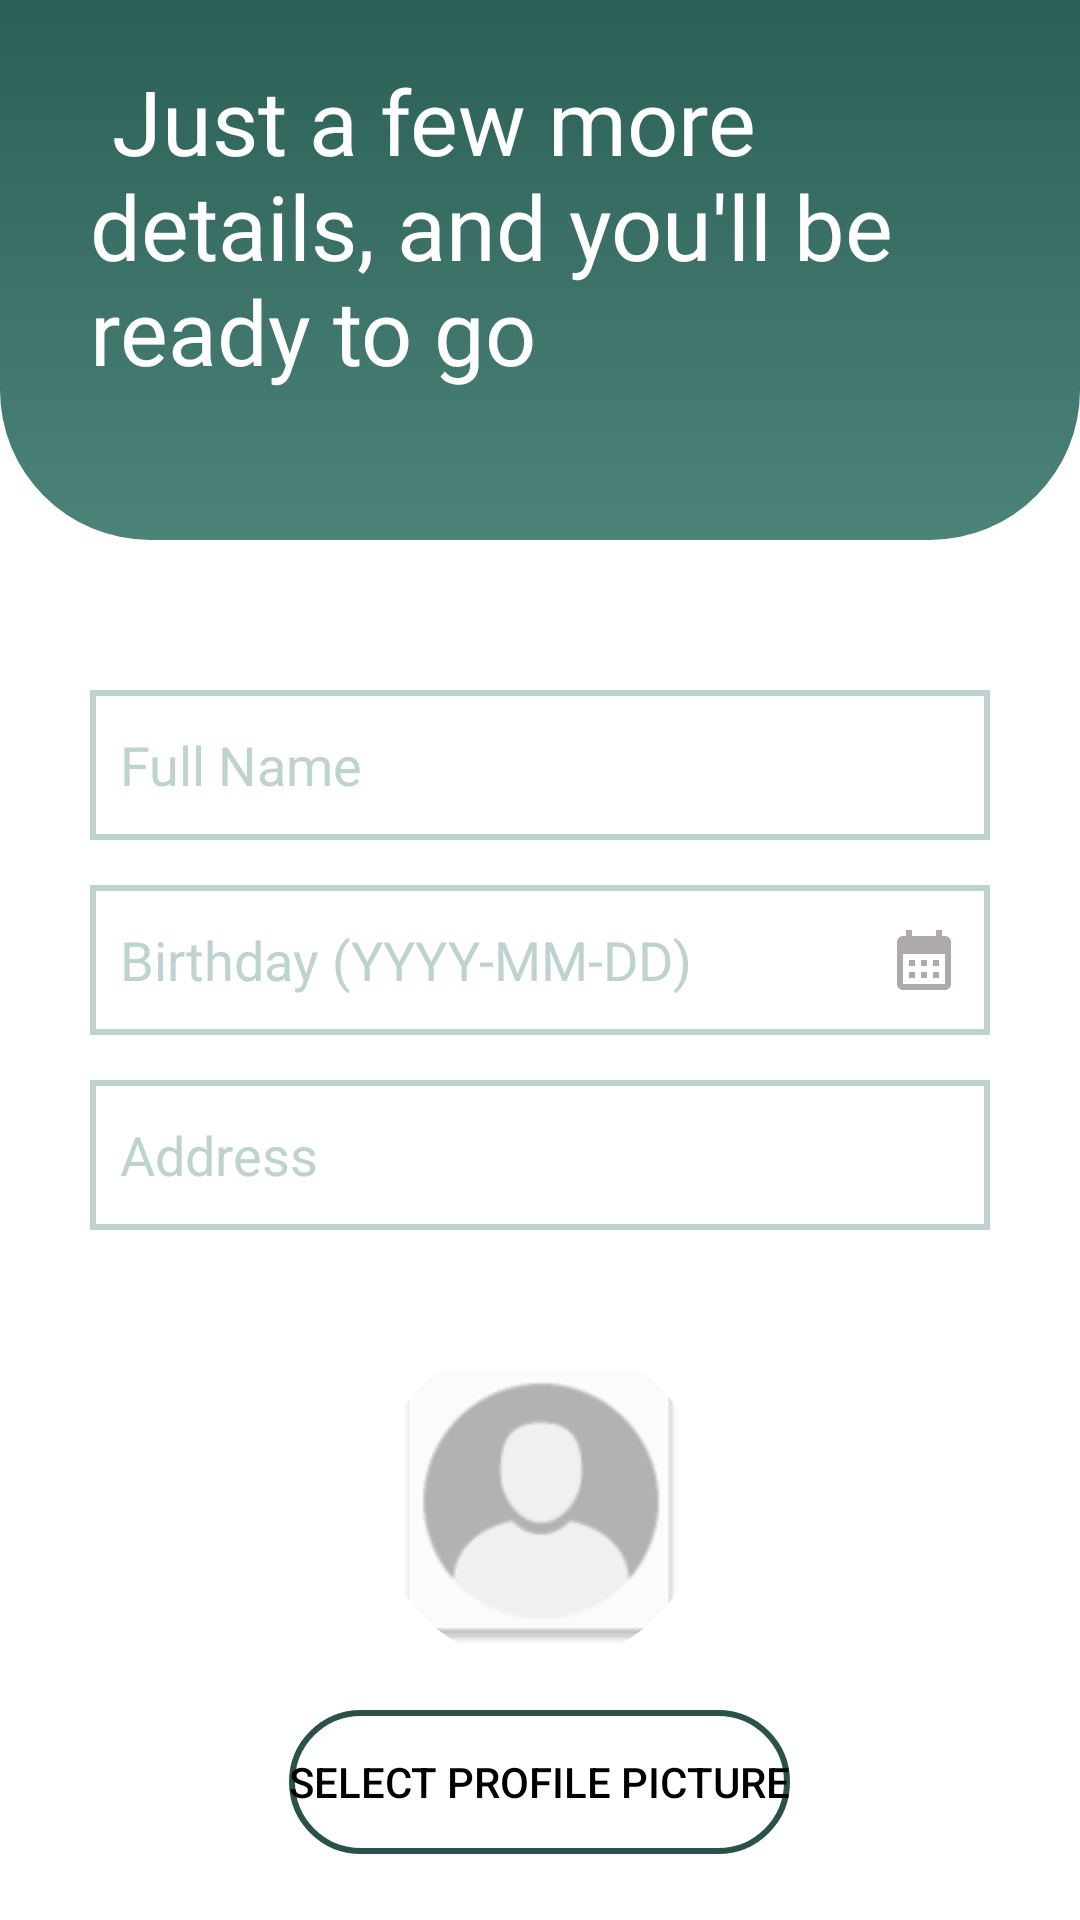

Point at icon controls on the screen. Image size 1080 × 1920, points as (x=x, y=y).
anonymous user: (x=540, y=1512)
